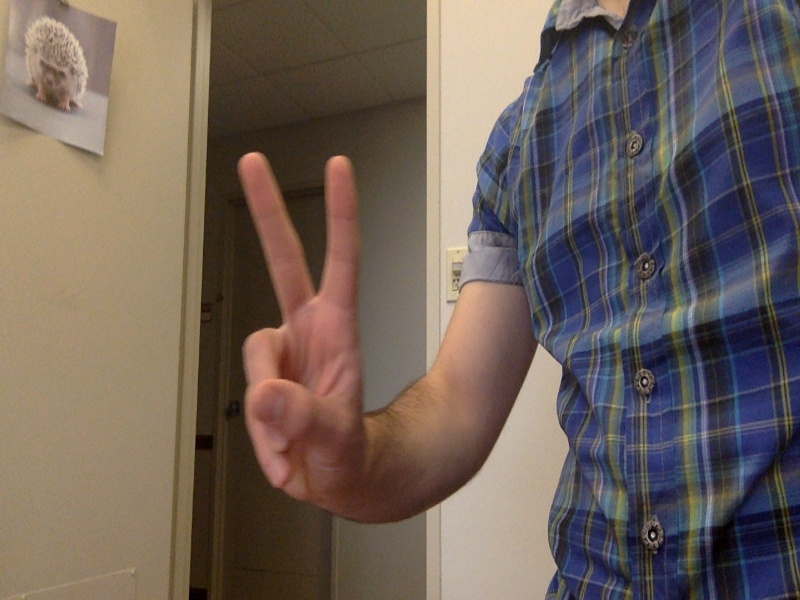2-hand: (225, 150, 384, 522)
